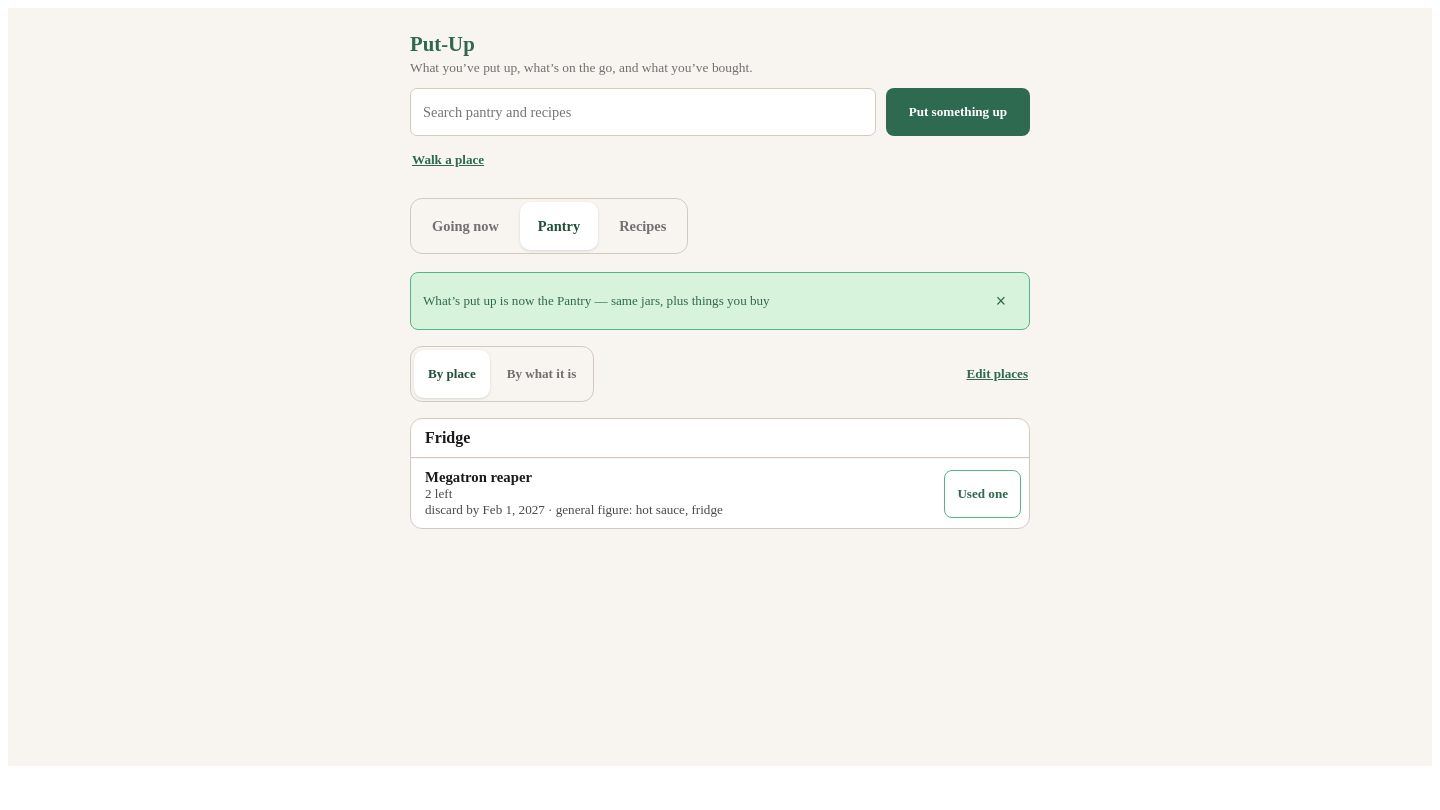
Test case: Used one / Used it up are uses on their own route › a refused use says how many are left, in the server's words, and writes nothing else
Click the button with aria-label "Used one — Megatron reaper" at (983, 494), box top-left (944, 470), bottom-right (1021, 518)
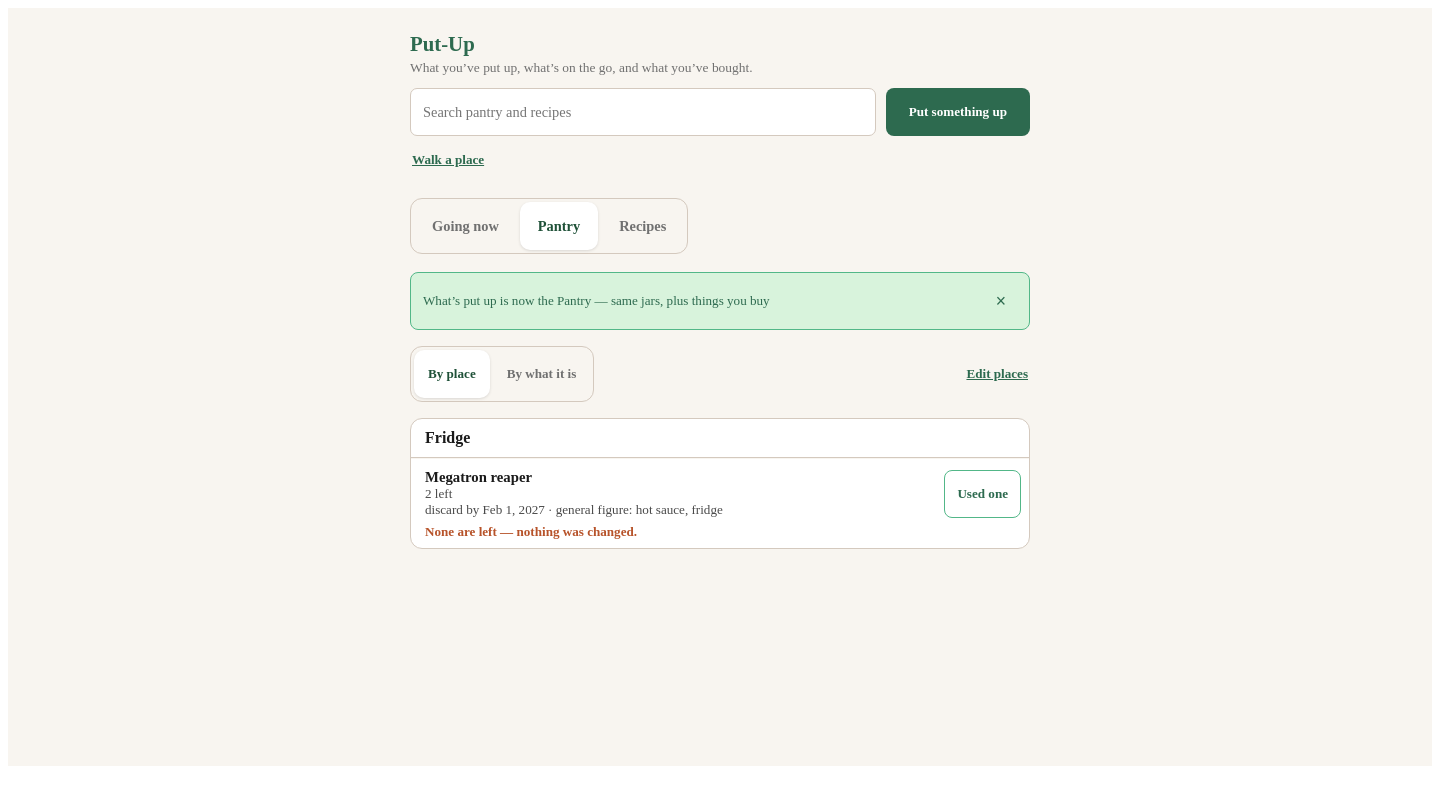
Check: the message reads "None are left — nothing was changed.", box top-left (425, 524), bottom-right (637, 539)
